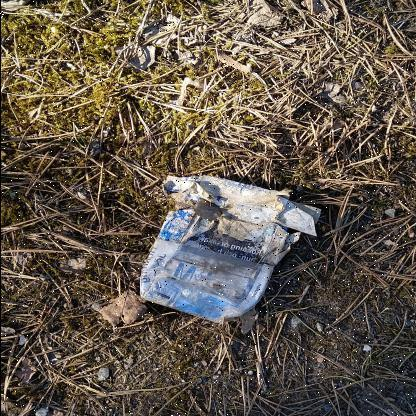cardboard: (136, 174, 322, 323)
